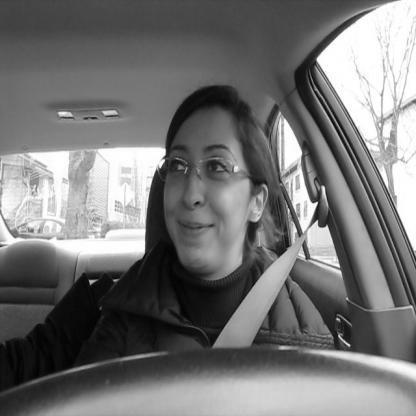seatbelt: (136, 78, 301, 416)
